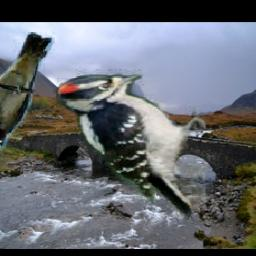Swallow: (0, 33, 55, 152)
Woodpecker: (54, 69, 207, 220)
